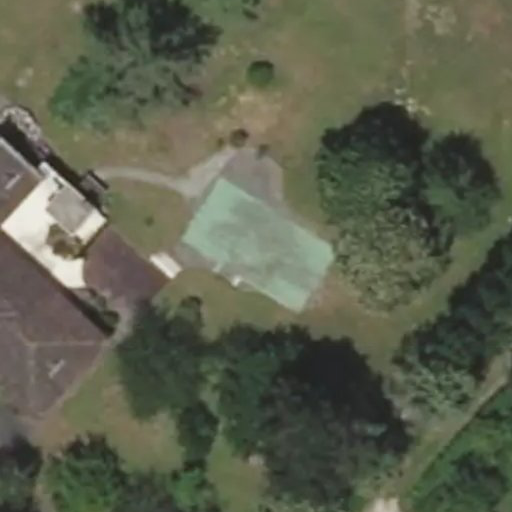pool: (182, 238, 323, 255)
